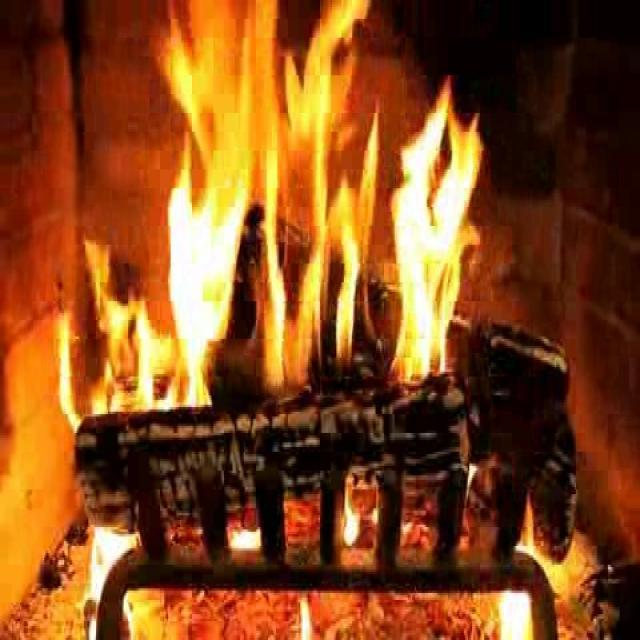Fire: (140, 6, 485, 430)
